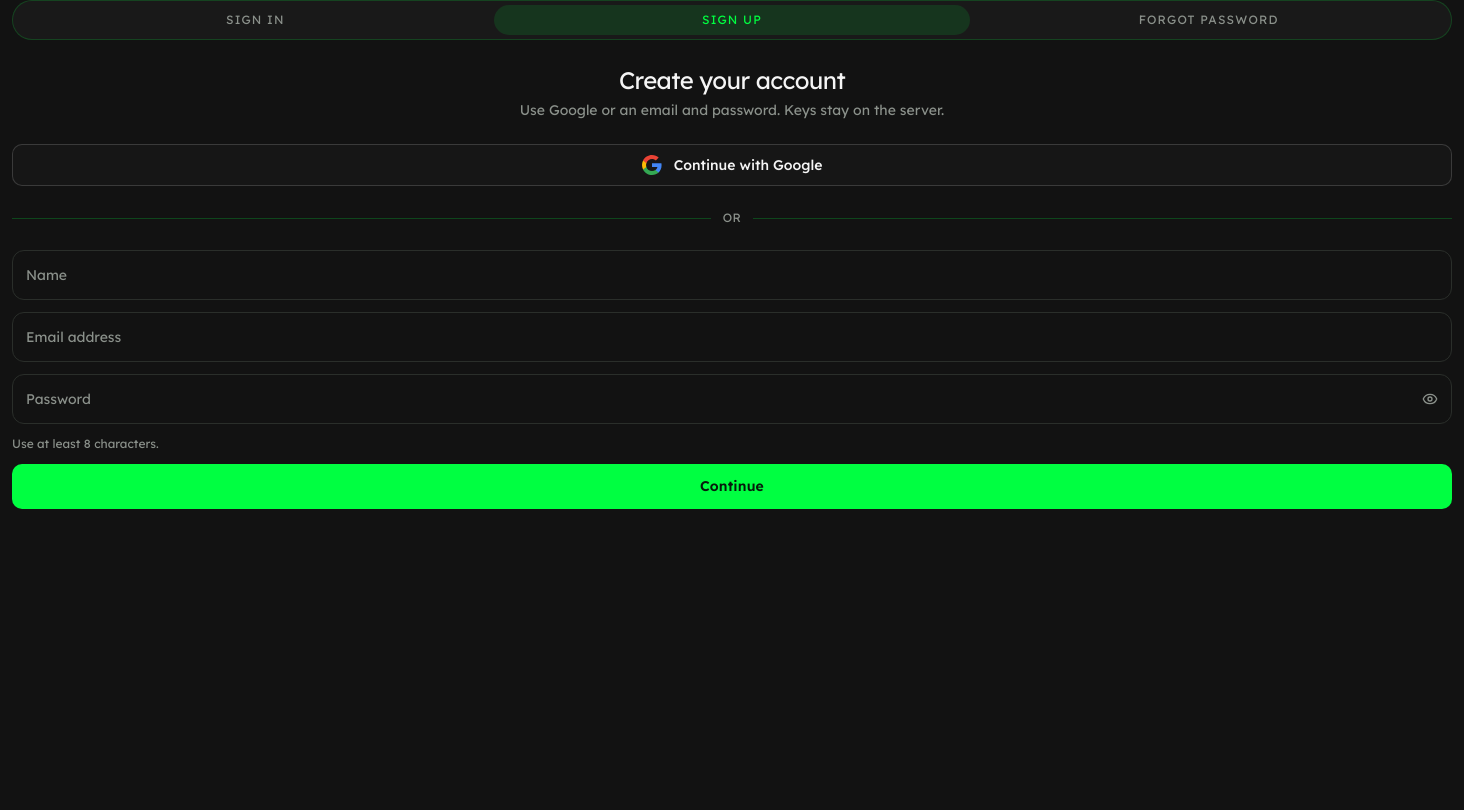
Test case: RegisterPage › stays on register when verification email cannot be sent
Step 1. Type "Ada" into the field labelled "Name" → {"x": 732, "y": 275}, box [12,250,1452,300]
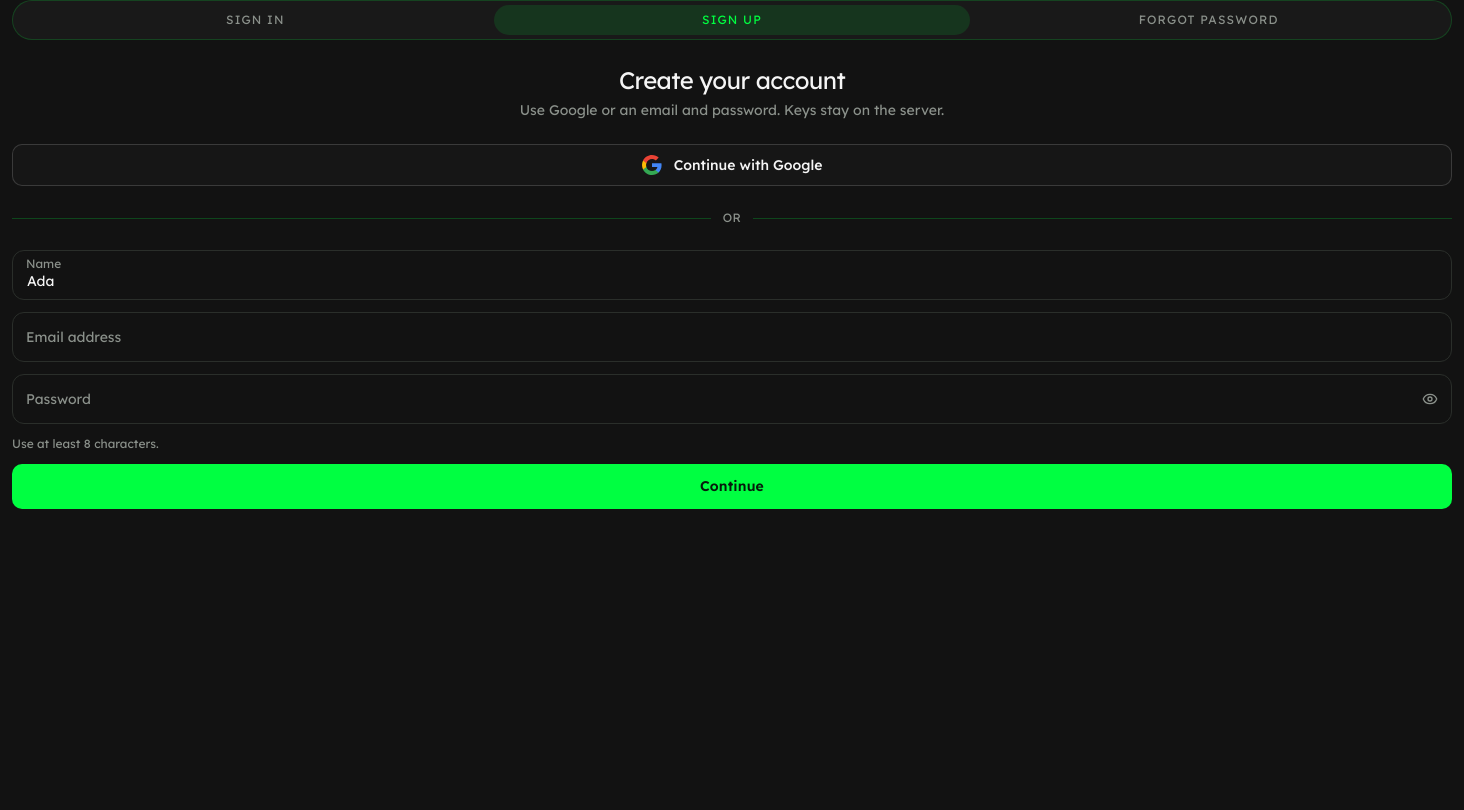
Step 2. Type "ada@example.com" into the field labelled "Email address" → {"x": 732, "y": 337}, box [12,312,1452,362]
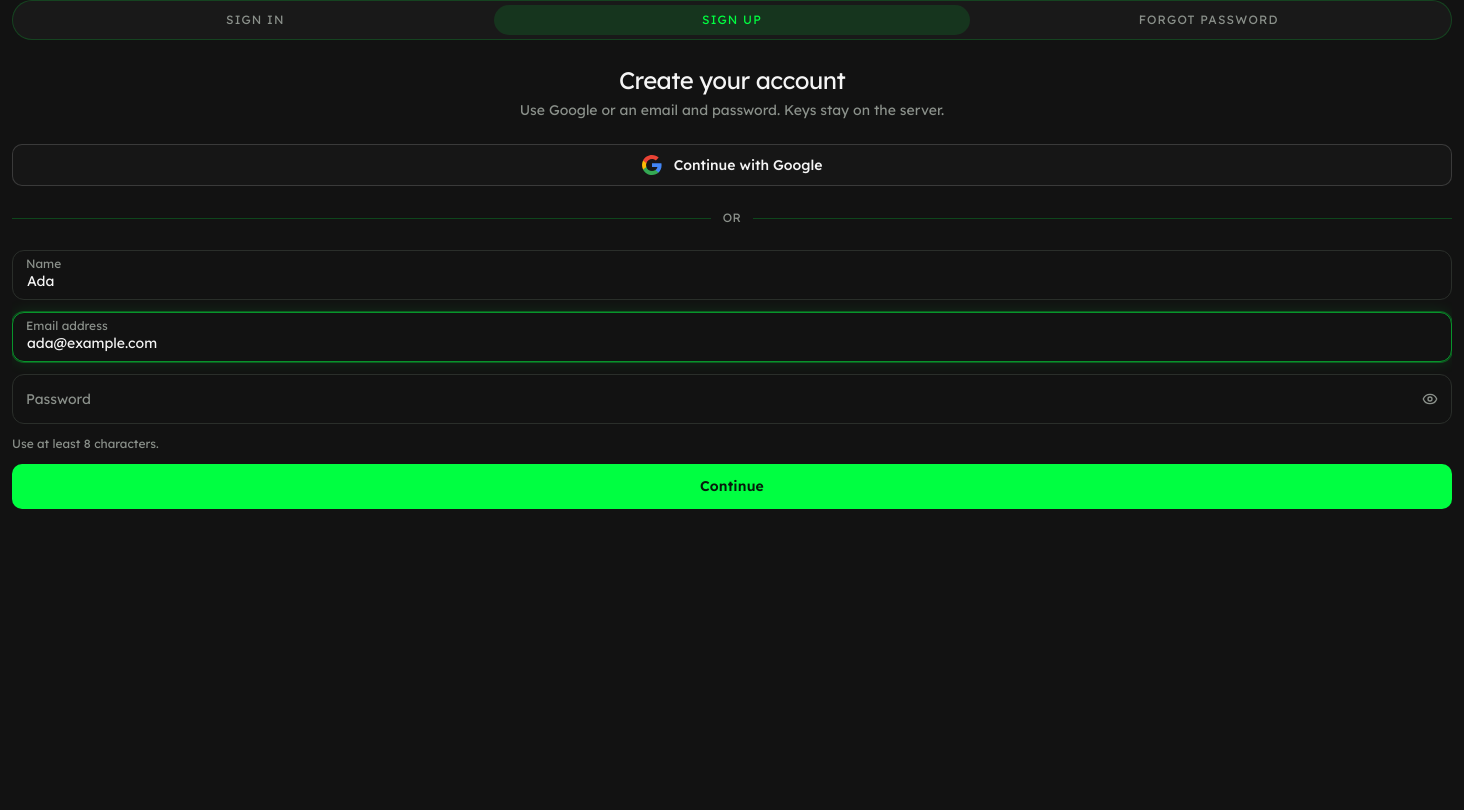
Step 3. Type "secret1" into the password field labelled "Password" → {"x": 732, "y": 399}, box [12,374,1452,424]
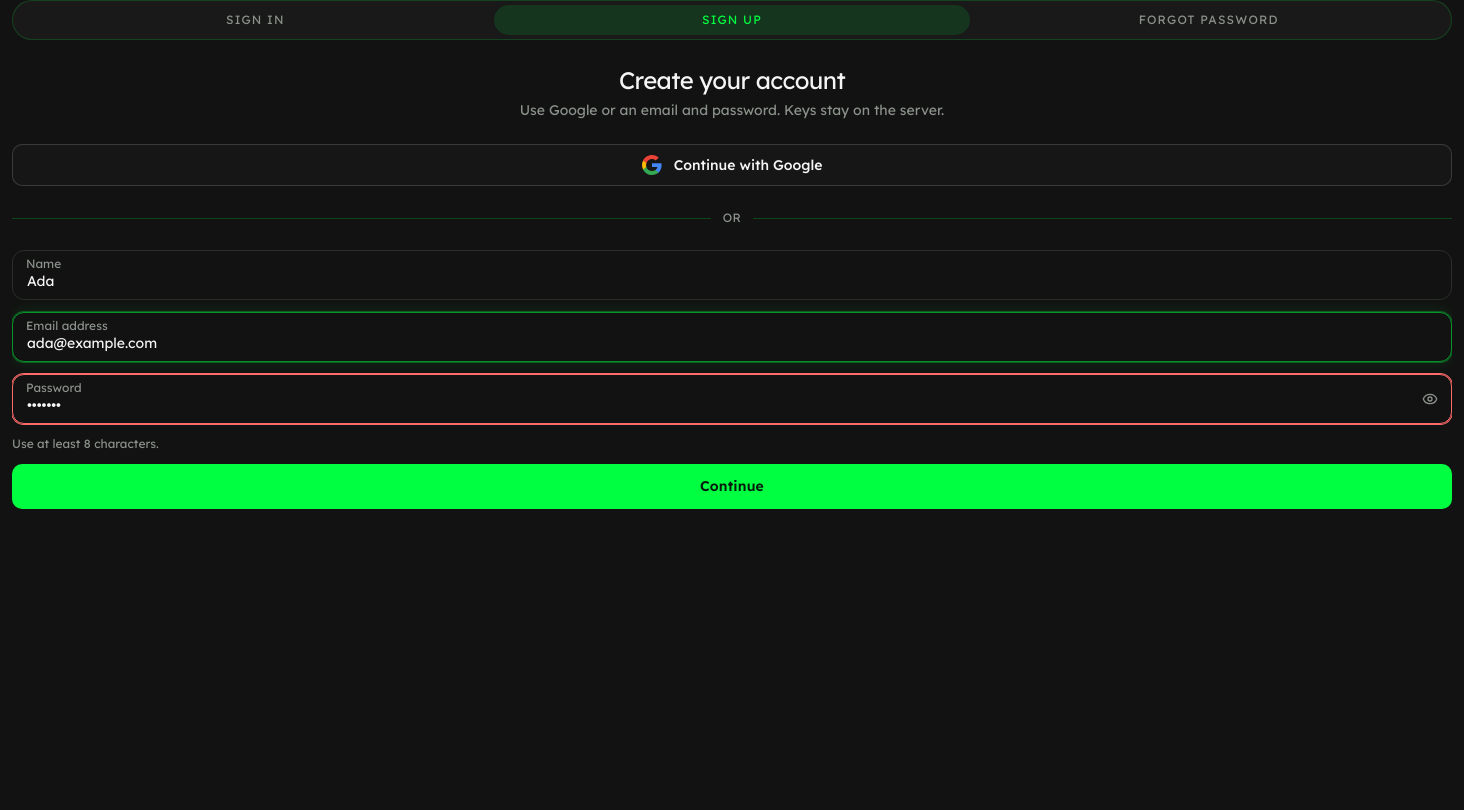
Step 4. Submit the form named "Create account", box [12,250,1452,509]
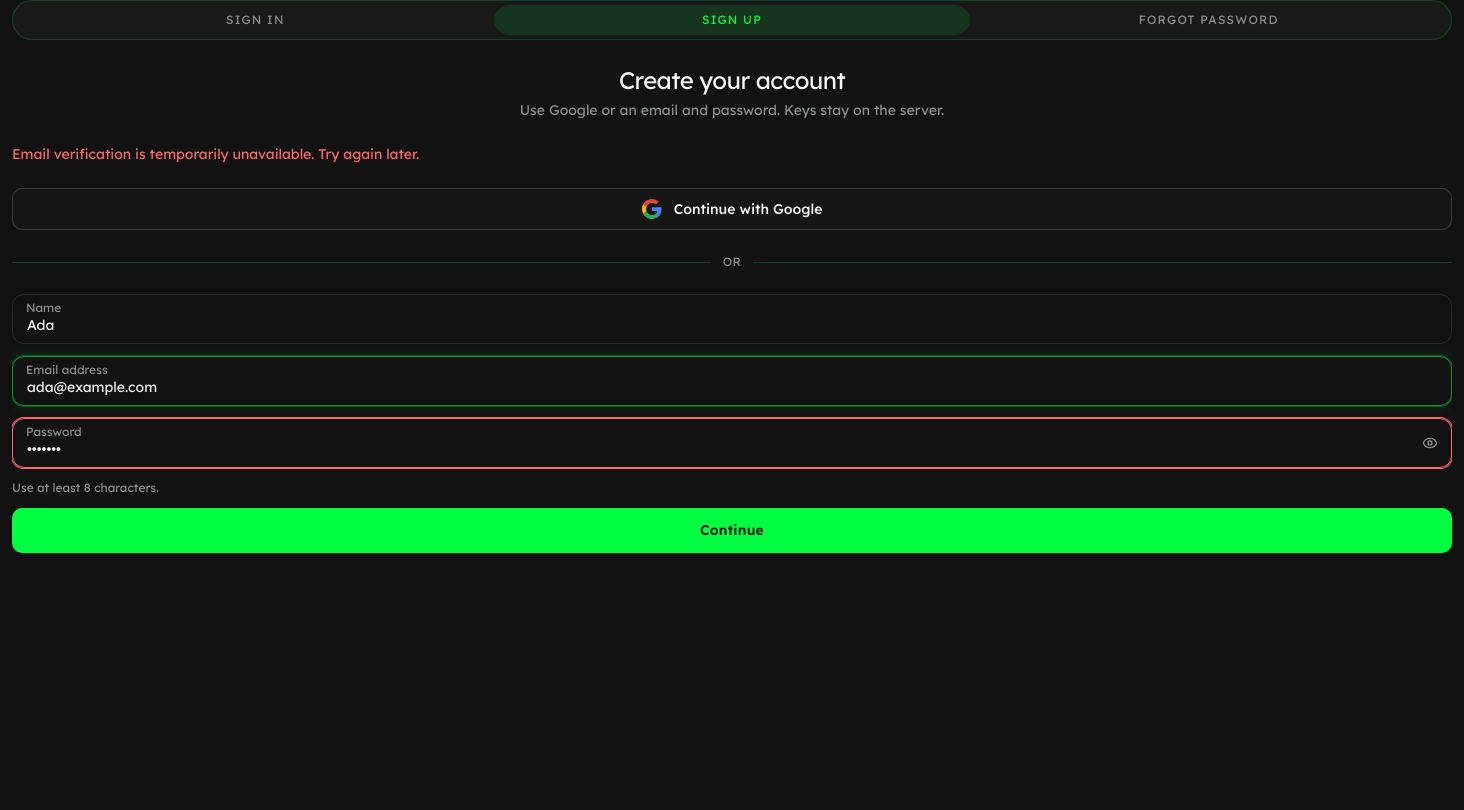
Check: the text "Email verification is temporarily unavailable. Try again later." is shown, box [12,145,419,163]
